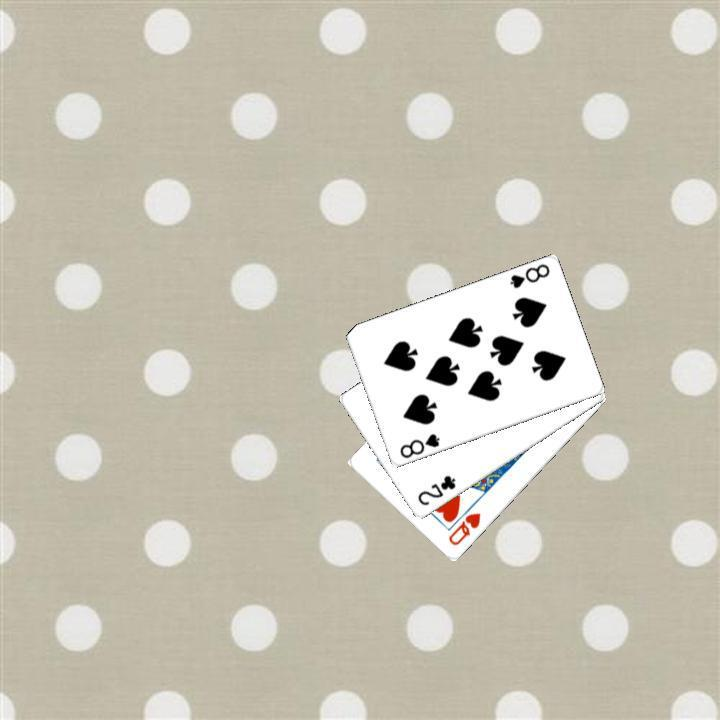2: (413, 471, 458, 508)
8: (395, 429, 442, 461), (505, 260, 552, 291)
Q: (444, 509, 483, 548)
